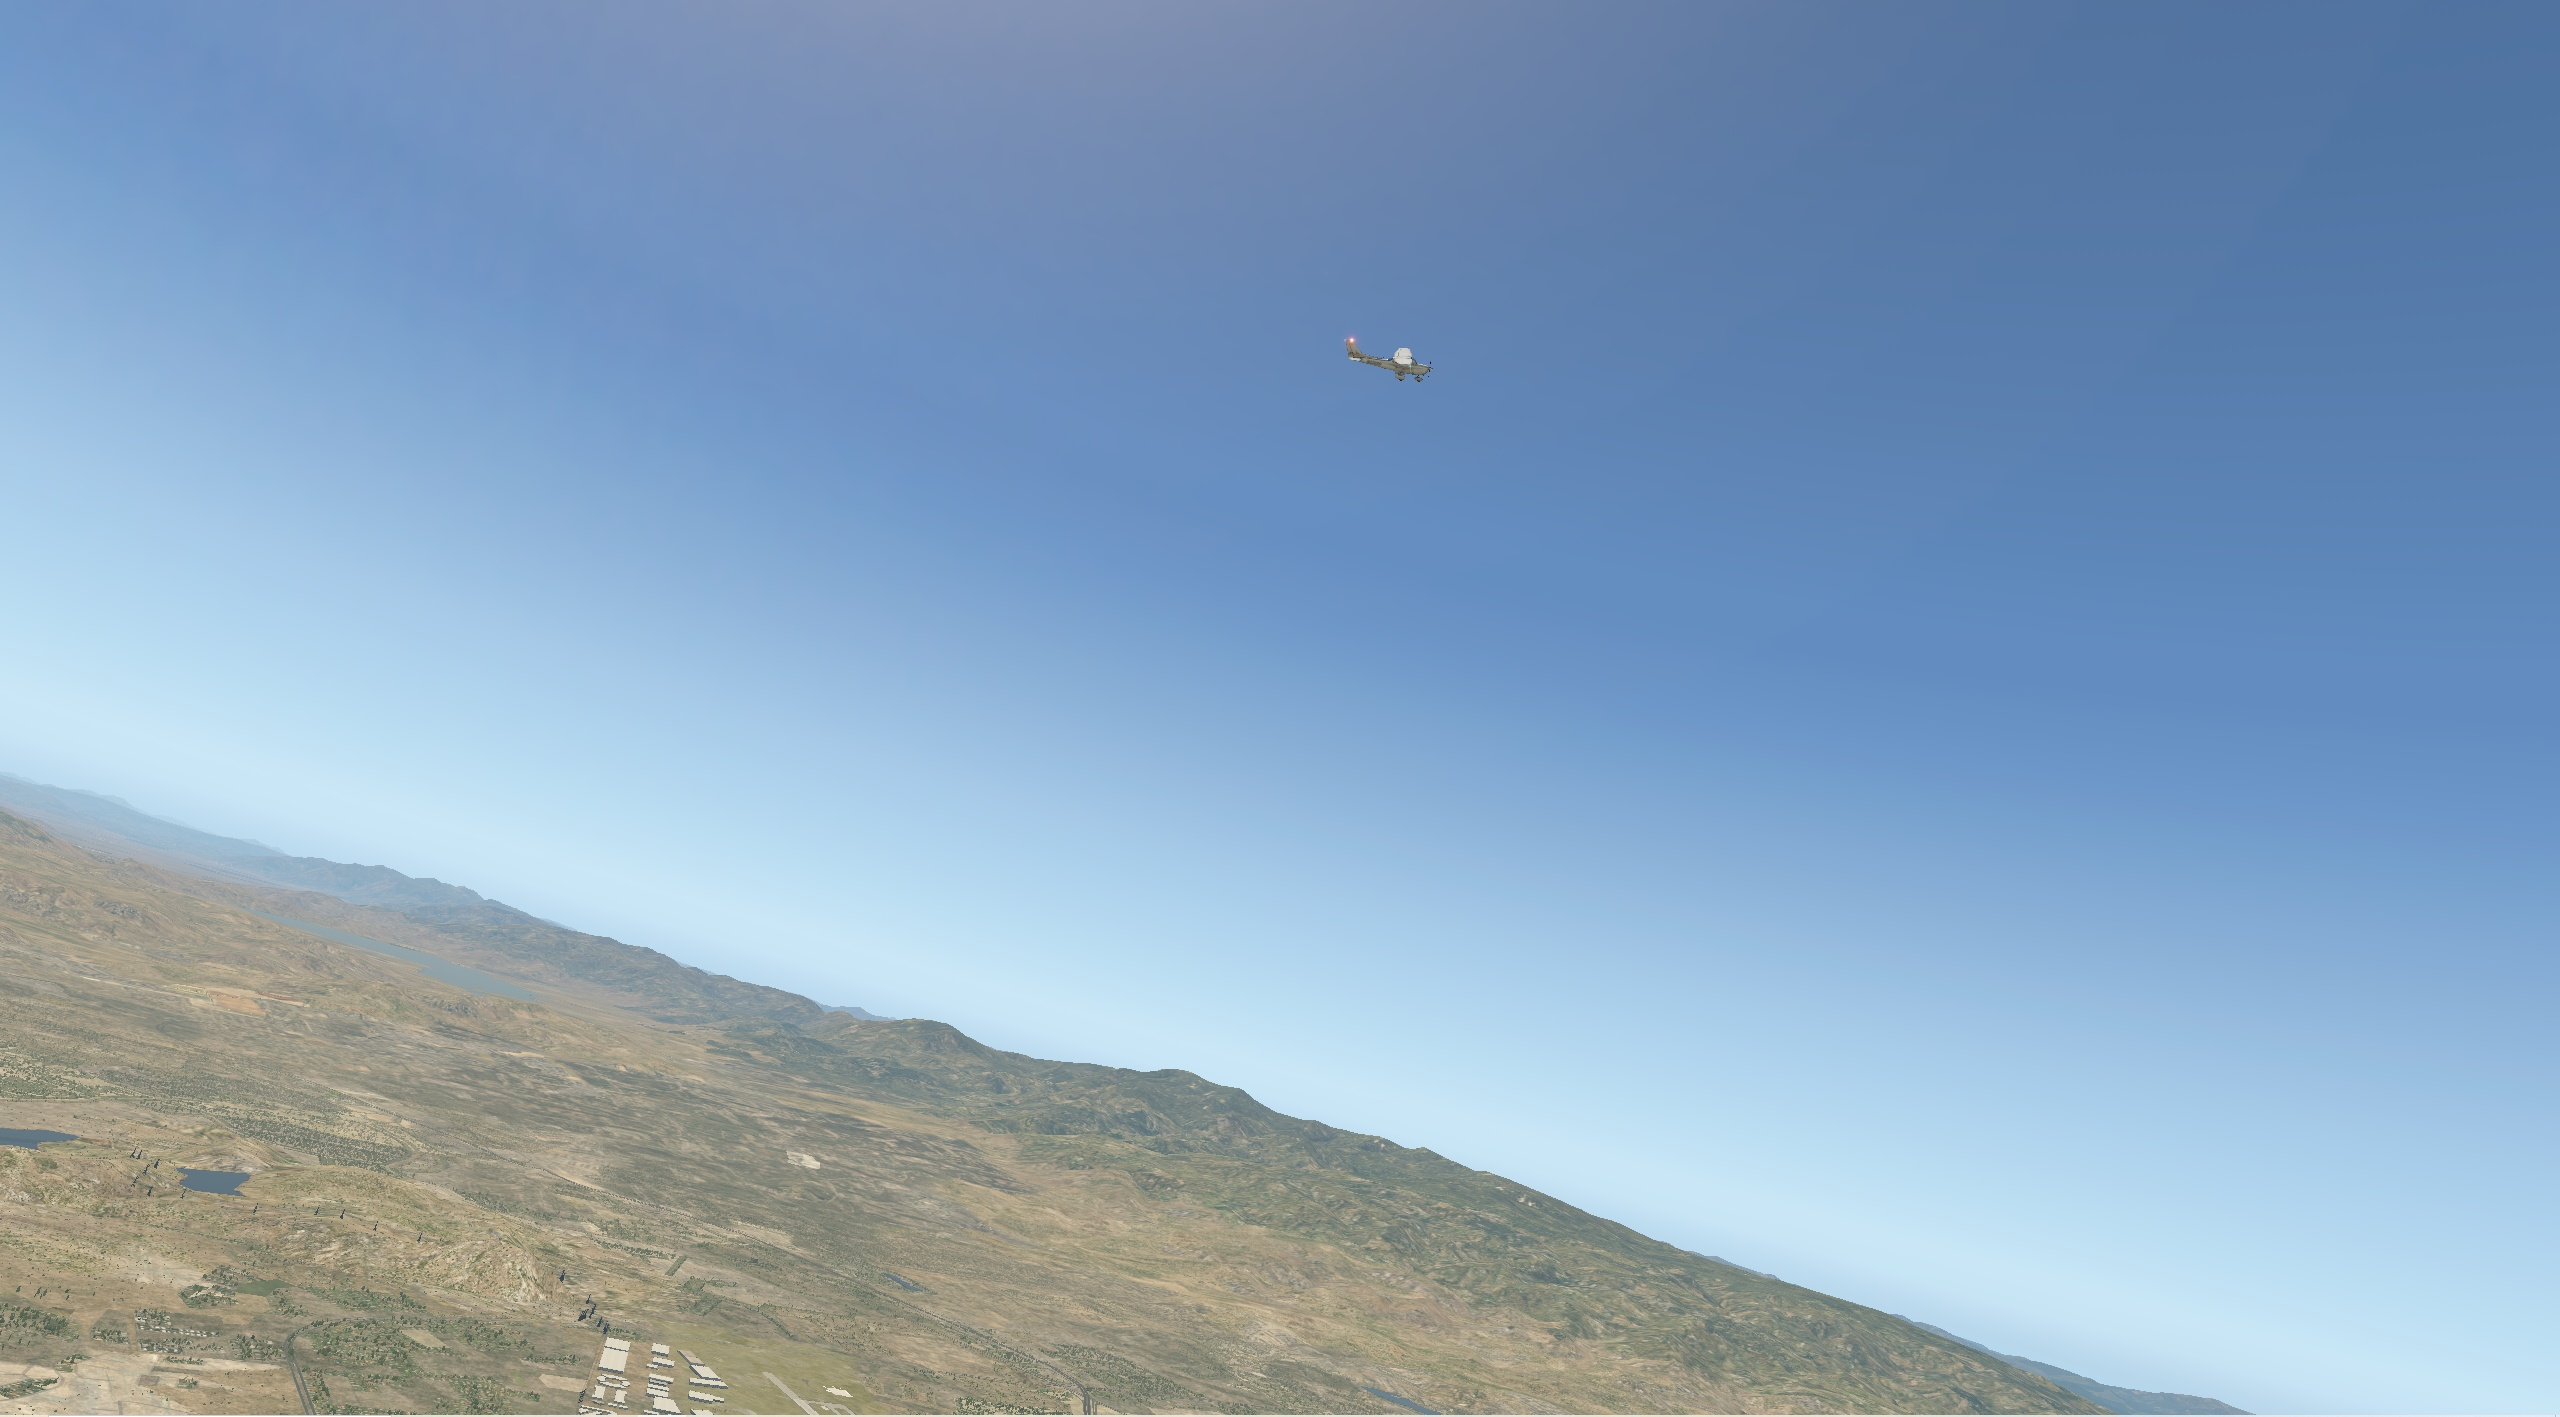aircraft: (1335, 339, 1476, 391)
